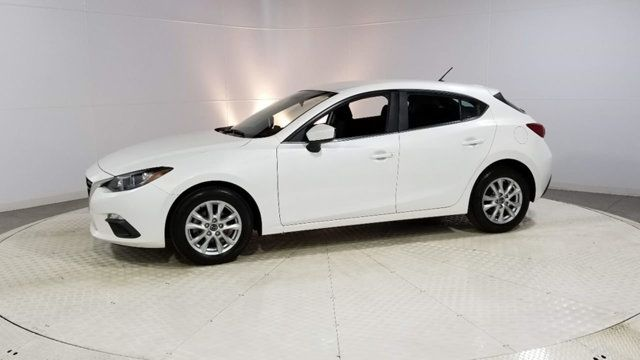Mazda3 Hatchback: (83, 78, 553, 266)
